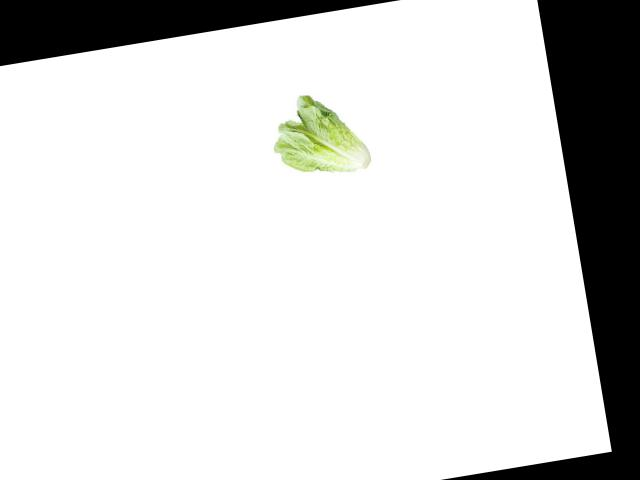lettuce: (265, 81, 379, 191)
